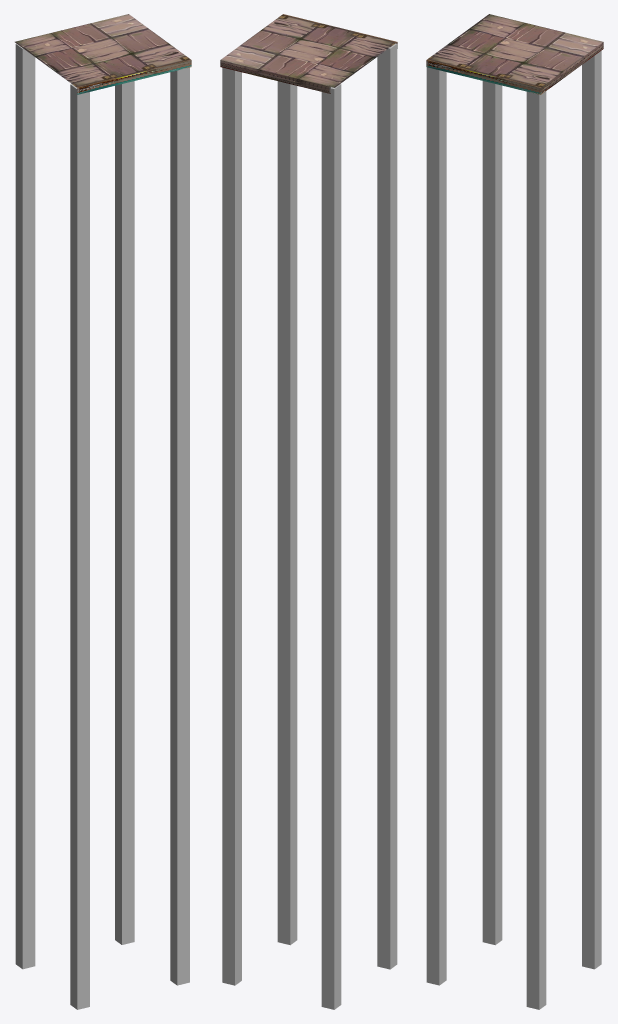
The model's file is Table2.obj.
3 renders of one model, left to right at view 1: azimuth 30°, elevation 25°; view 2: azimuth 150°, elevation 25°; view 3: azimuth 330°, elevation 25°, orthographic.
Visible parts, largest first — view 1: Cube.004, Cube.001, Cube.002, Cube.003, Cube; view 2: Cube.004, Cube.001, Cube.003, Cube.002, Cube; view 3: Cube.002, Cube.001, Cube.003, Cube.004, Cube.
Boxes of the visible parts, box(x1,y1,x2,y2) form: Cube.004: box(15, 43, 35, 969); Cube.001: box(70, 84, 89, 1009); Cube.002: box(170, 67, 189, 985); Cube.003: box(115, 81, 134, 944); Cube: box(15, 14, 191, 94); Cube.004: box(321, 84, 341, 1009); Cube.001: box(377, 43, 397, 969); Cube.003: box(222, 67, 241, 985); Cube.002: box(277, 81, 297, 945); Cube: box(220, 14, 397, 93); Cube.002: box(526, 91, 546, 1009); Cube.001: box(426, 67, 446, 985); Cube.003: box(582, 50, 601, 969); Cube.004: box(482, 81, 502, 945); Cube: box(426, 14, 603, 94).
Bounding box in the file's own units: 7.58 × 58.38 × 7.22.
